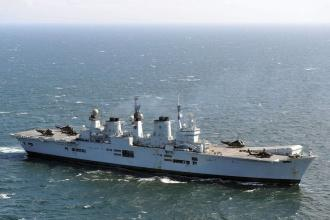warship: (5, 104, 317, 184)
